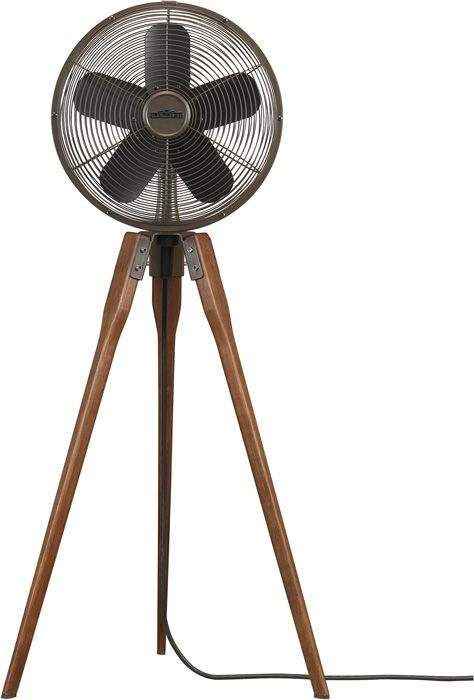standing_fan: (1, 1, 326, 695)
